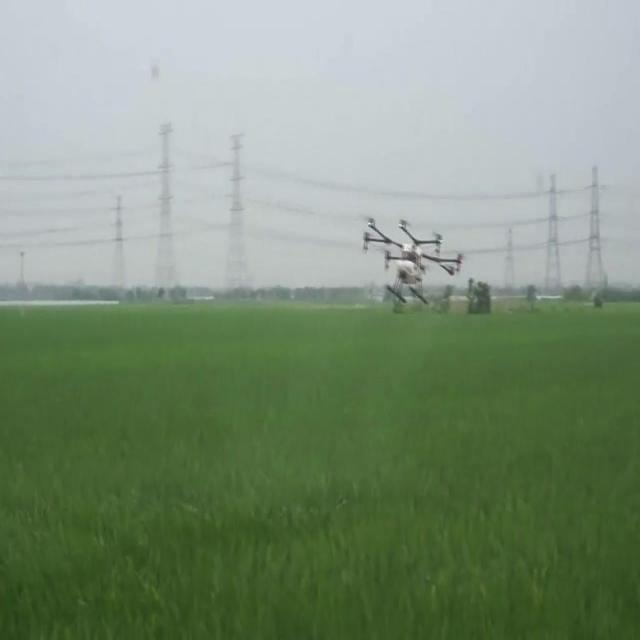UAV: (362, 215, 464, 305)
